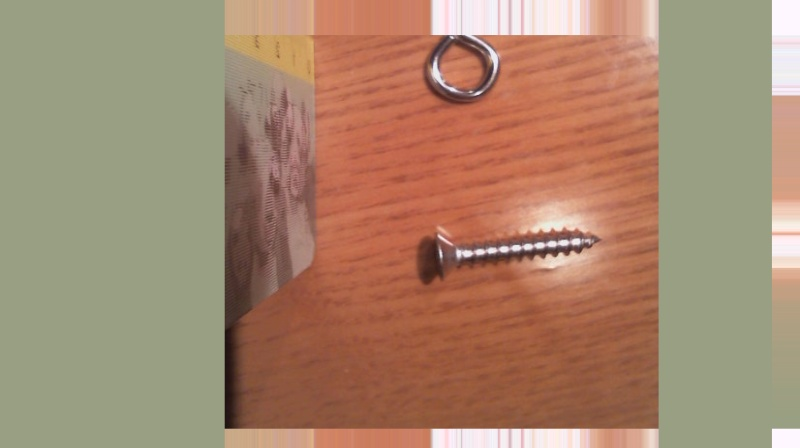O001: (417, 0, 503, 107)
S001: (420, 222, 600, 286)
